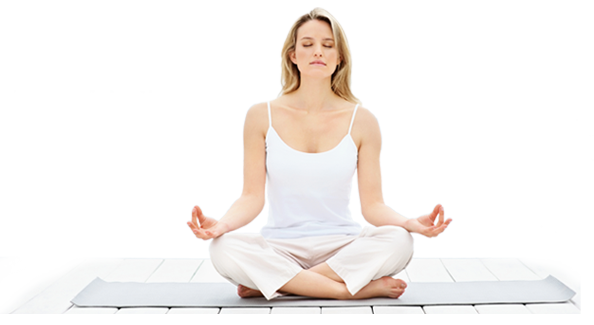hand: (410, 203, 457, 248), (185, 205, 227, 243)
